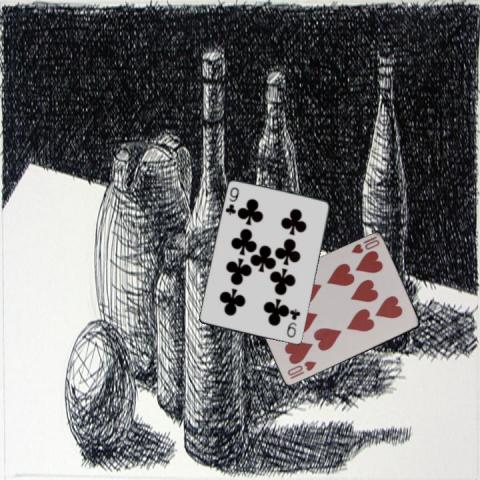10h: (284, 358, 318, 381), (348, 234, 381, 256)
9c: (222, 184, 241, 217), (285, 306, 302, 339)
